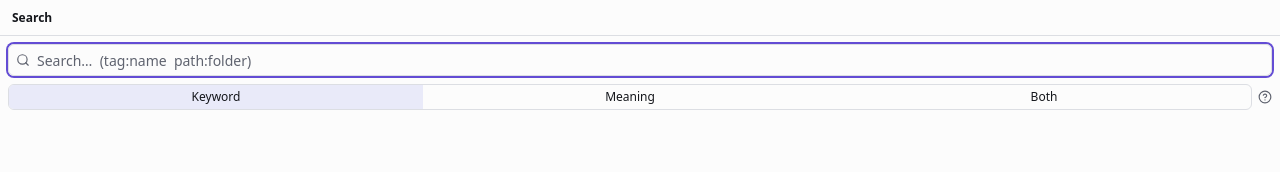
Test case: SearchPanel › both mode uses hybrid search
Click the radio button labelled "Both": x=1044, y=97 [837,85,1251,109]
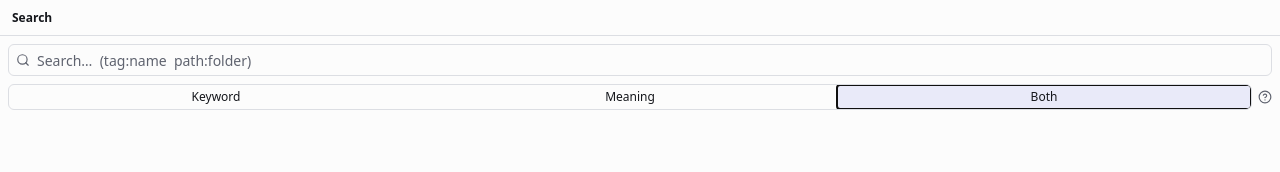
In the field named "Search notes": x=640, y=60 [8,44,1272,76], type "backup"
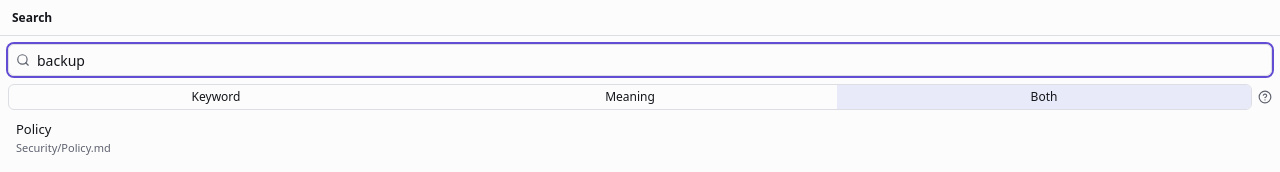
Now the text "Policy" is shown, box [16,120,51,138]
